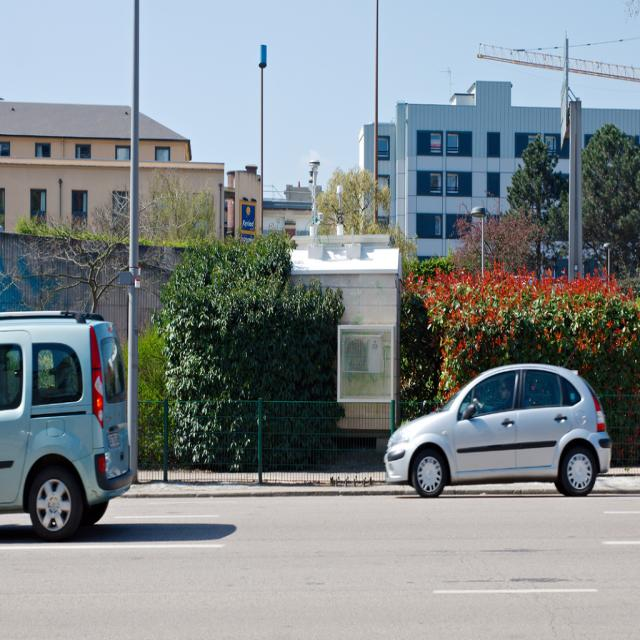car: (382, 342, 613, 493)
